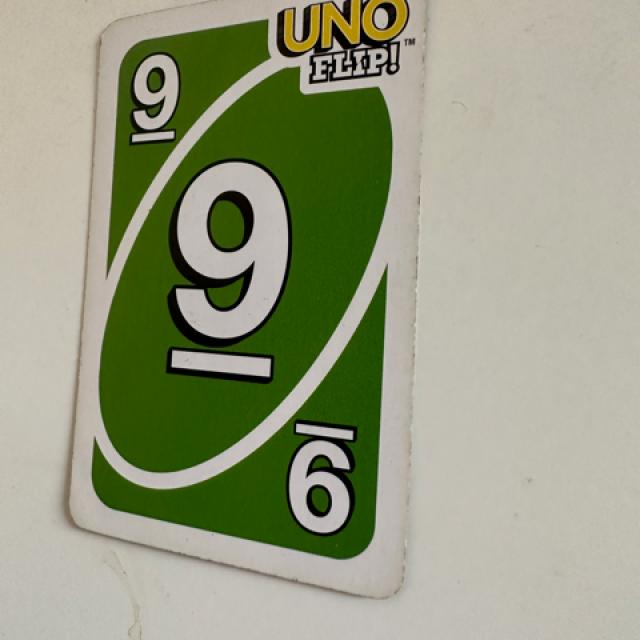lgreen-9: (113, 34, 197, 160)
